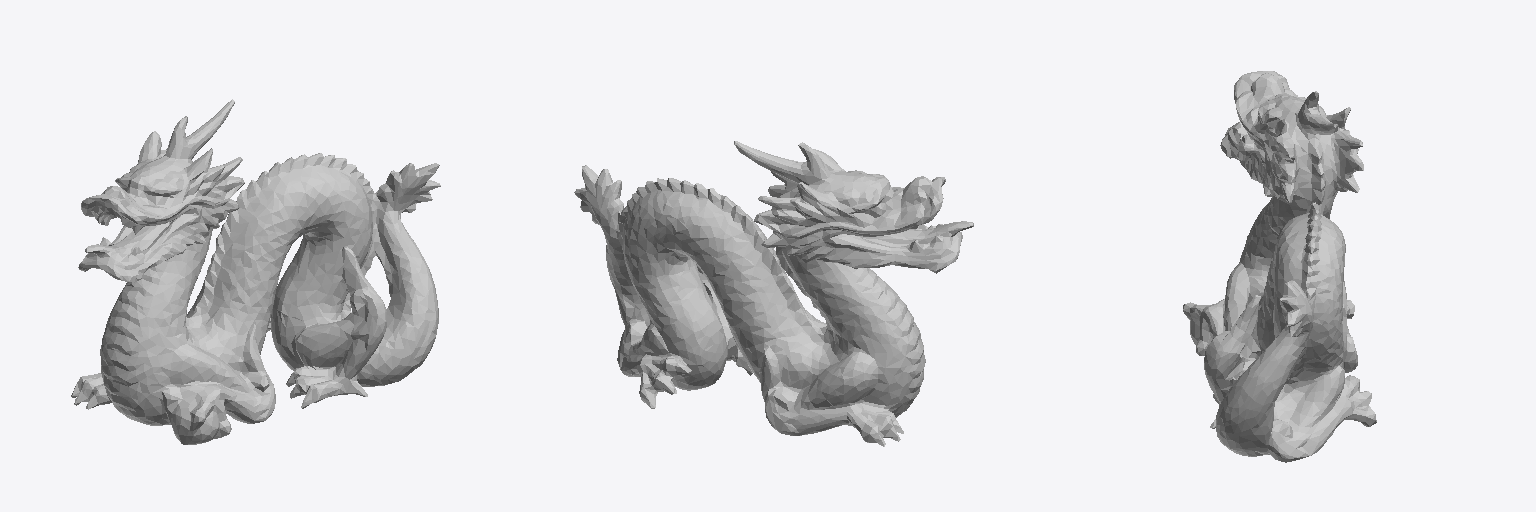
File: dragon10K.obj
3 views of the same model, side by side, from view 1: azimuth 30°, elevation 25°; view 2: azimuth 150°, elevation 25°; view 3: azimuth 270°, elevation 25° (orthographic).
Bounding box in the file's own units: 2 × 1.41 × 0.8938.